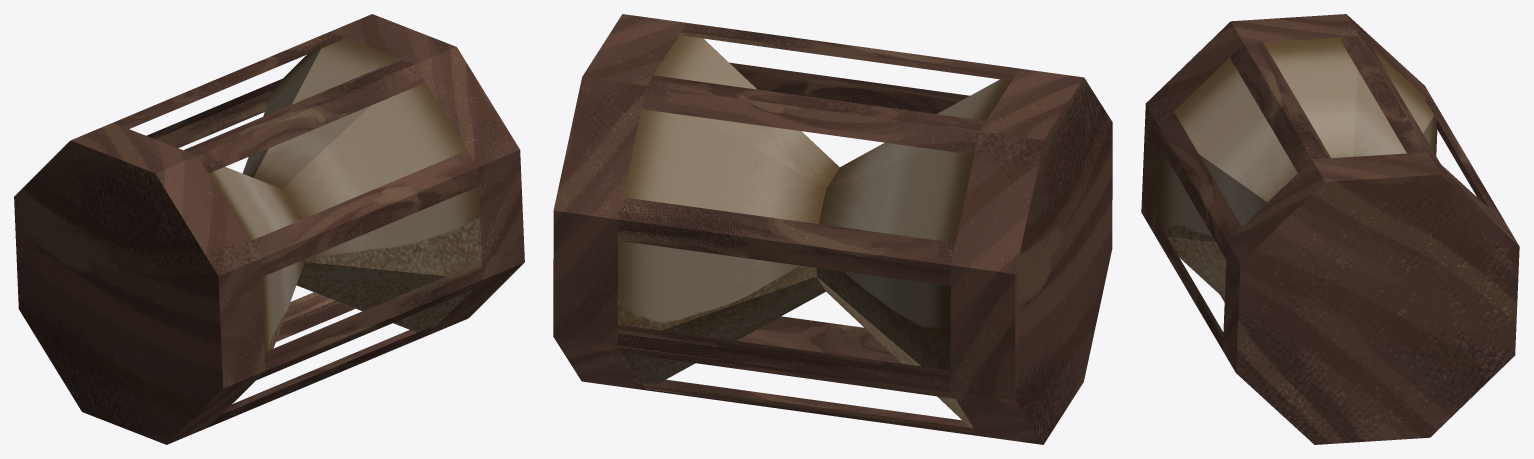
The model's file is Hourglass01.fbx.
The picture shows the model from 3 angles, left to right: view 1: azimuth 30°, elevation 25°; view 2: azimuth 150°, elevation 25°; view 3: azimuth 270°, elevation 25°; orthographic projection. The views are drawn at different scales.
Visible parts, largest first — view 1: Hourglass01; view 2: Hourglass01; view 3: Hourglass01.
Boxes of the visible parts, x1,y1,x2,y2 form: Hourglass01: [14, 14, 524, 444]; Hourglass01: [553, 14, 1112, 444]; Hourglass01: [1141, 14, 1519, 444].
Size of the model in its own units: 0.2558 by 0.1649 by 0.2096.
Materials: 1 (1 with a texture image).
